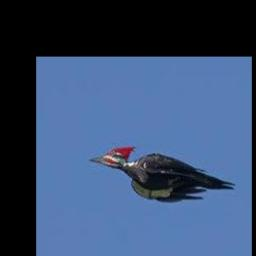Woodpecker: (89, 146, 236, 201)
